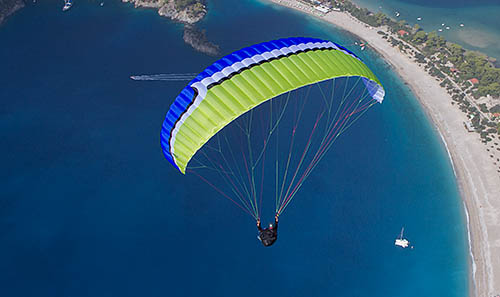Paraglider: (157, 38, 391, 180)
